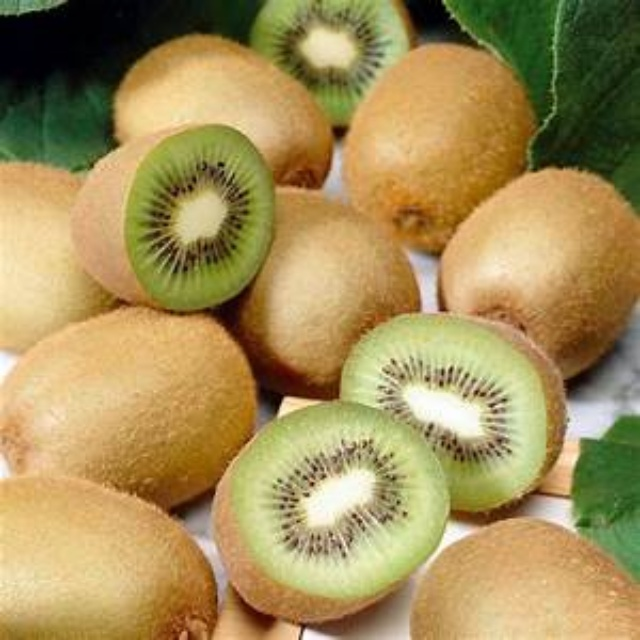kiwi: (216, 305, 569, 616), (438, 145, 633, 404), (20, 298, 244, 498), (334, 39, 533, 250), (80, 125, 282, 322), (226, 199, 414, 386), (123, 30, 325, 180), (412, 508, 631, 636)
